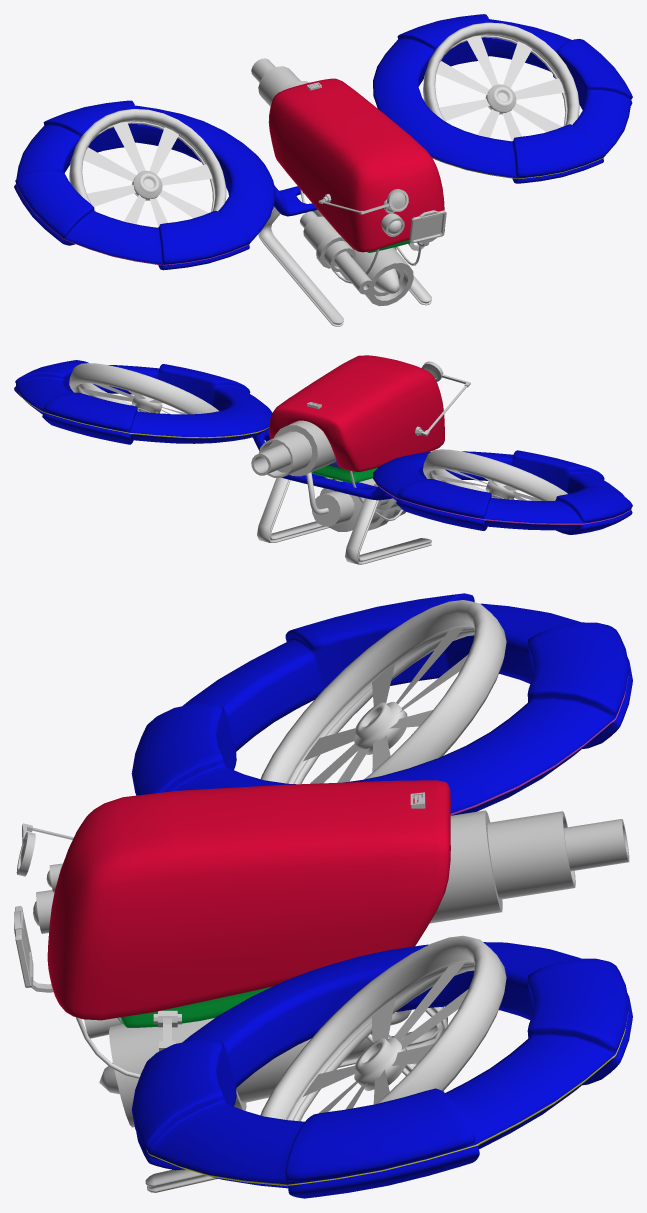
3 views of the same model, one above another, from view 1: azimuth 30°, elevation 25°; view 2: azimuth 150°, elevation 25°; view 3: azimuth 270°, elevation 25° (orthographic). The views are drawn at different scales.
Parts seen in each view (by area): view 1: Cube.007, Cylinder.022; view 2: Cube.007, Cylinder.022; view 3: Cube.007, Cylinder.022.
Boxes of the visible parts, x1=… form: Cube.007: x1=14, y1=14, x2=632, y2=326; Cylinder.022: x1=251, y1=58, x2=446, y2=306; Cube.007: x1=14, y1=355, x2=632, y2=564; Cylinder.022: x1=251, y1=361, x2=470, y2=531; Cube.007: x1=33, y1=593, x2=632, y2=1198; Cylinder.022: x1=14, y1=792, x2=629, y2=1127.
Bounding box in the file's own units: 2 × 0.6065 × 0.9466.
